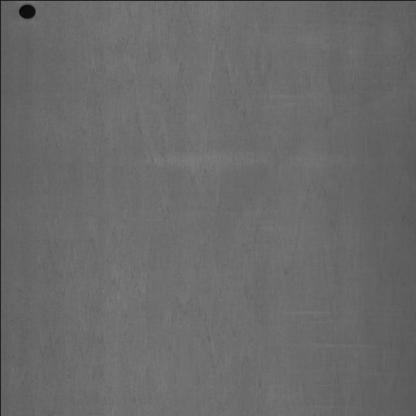punching_hole: (17, 1, 41, 24)
